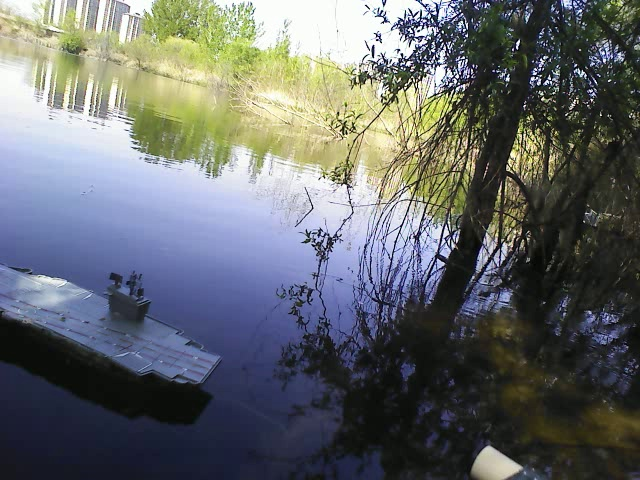aircraft_carrier: (4, 257, 224, 393)
